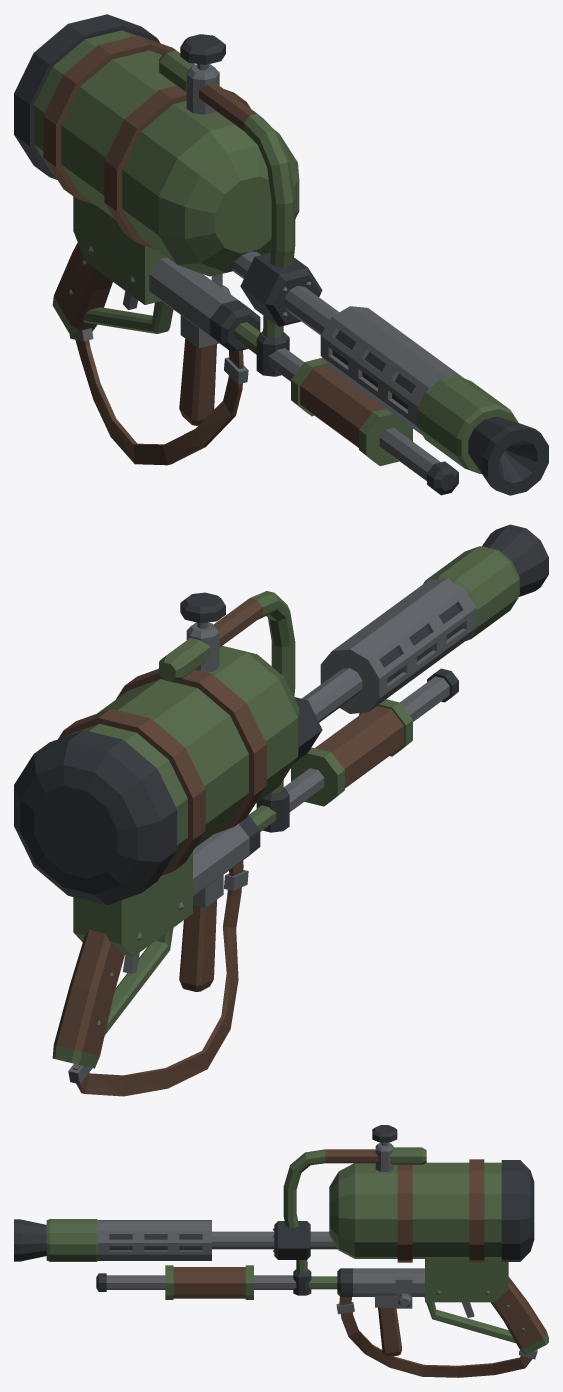
Rendered from flamethrower-e06c0a.glb.
The picture shows the model from 3 angles, top to bottom: view 1: azimuth 30°, elevation 25°; view 2: azimuth 150°, elevation 25°; view 3: azimuth 270°, elevation 25°; orthographic projection. The views are drawn at different scales.
Parts seen in each view (by area): view 1: body, sling-mesh; view 2: body, sling-mesh; view 3: body, sling-mesh.
Boxes of the visible parts, left/top/right/bottom form: body: left=14, top=14, right=548, bottom=495; sling-mesh: left=69, top=328, right=248, bottom=465; body: left=14, top=524, right=548, bottom=1068; sling-mesh: left=68, top=860, right=248, bottom=1096; body: left=14, top=1125, right=548, bottom=1356; sling-mesh: left=336, top=1297, right=537, bottom=1377.
Bounding box in the file's own units: 0.2178 × 0.6083 × 1.15.
